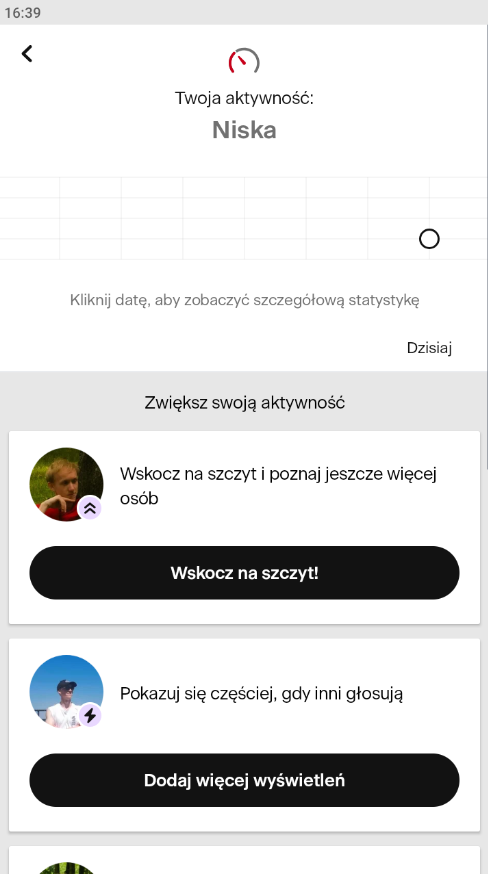kupno_button: (30, 542, 460, 600), (31, 751, 460, 809)
